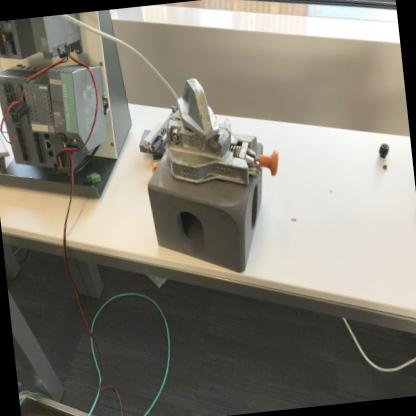CornerCasting: (142, 145, 272, 285)
Twistlock: (140, 66, 280, 187)
